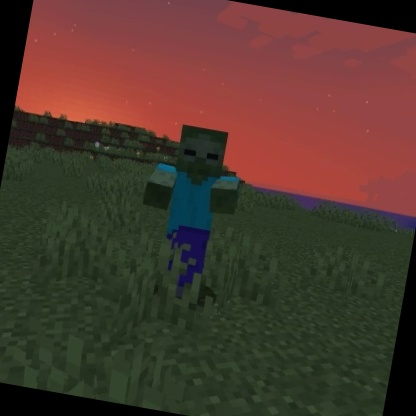zombie: (122, 116, 252, 311)
